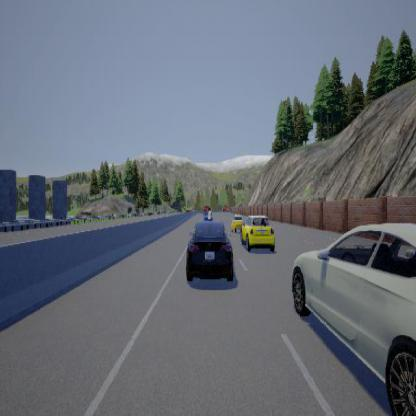vehicle: (290, 222, 416, 415), (185, 205, 233, 280), (230, 214, 274, 250)
